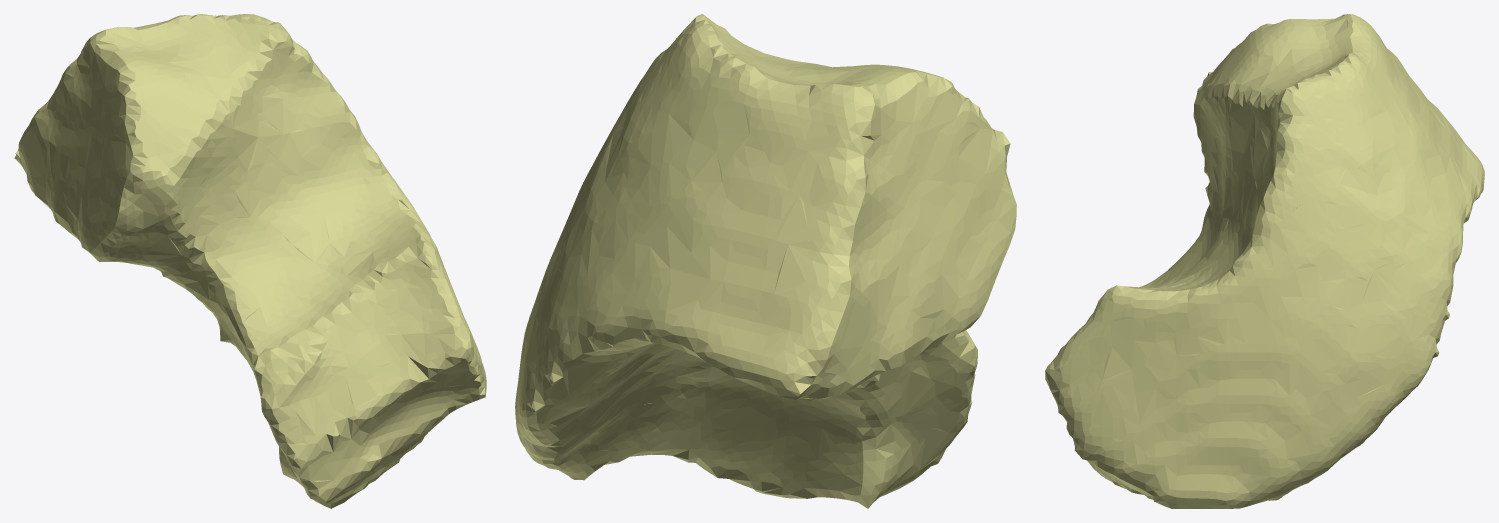
File: Model_118_RH__Proisocortical_motor_region_(precentral_opercular_cortex)_(ProM).obj
3 views of the same model, side by side, from view 1: azimuth 30°, elevation 25°; view 2: azimuth 150°, elevation 25°; view 3: azimuth 270°, elevation 25° (orthographic). The views are drawn at different scales.
Size of the model in its own units: 3.6 by 4.21 by 4.15.
